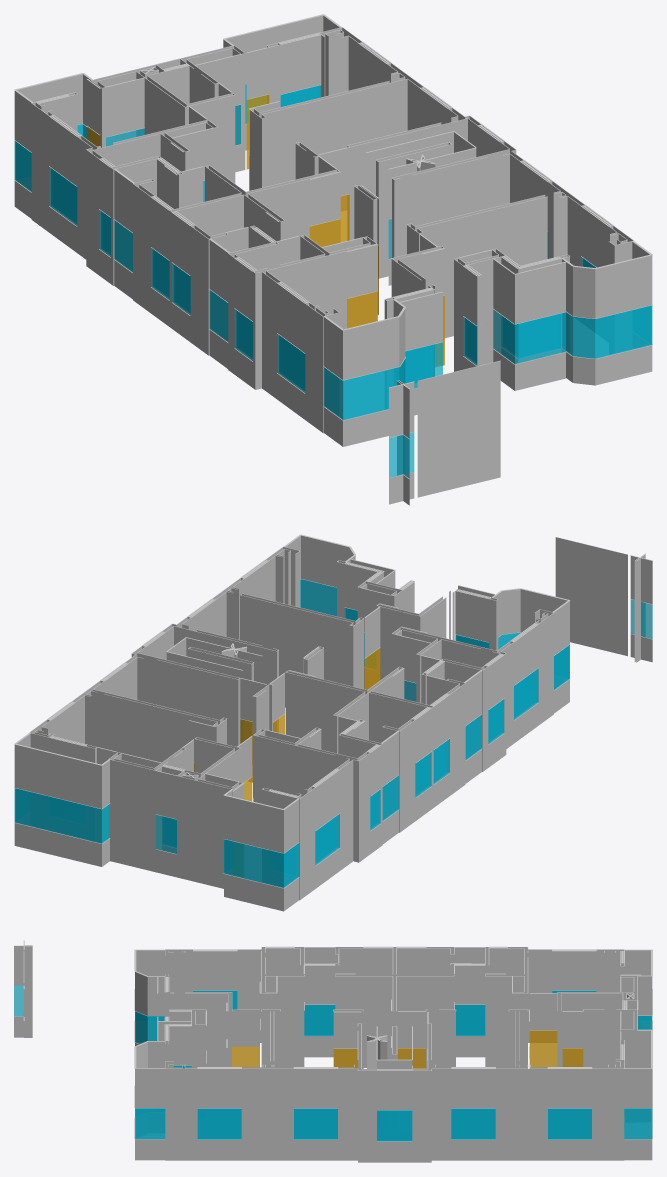
The model's file is 7ca4542e-b6ab-446c-be6a-08c3e18508d6_no_roof.glb.
The picture shows the model from 3 angles, top to bottom: view 1: azimuth 30°, elevation 25°; view 2: azimuth 150°, elevation 25°; view 3: azimuth 270°, elevation 25°; orthographic projection. The views are drawn at different scales.
Visible parts, largest first — view 1: walls, windows, doors; view 2: walls, windows, doors; view 3: walls, windows, doors.
Part boxes in pixels (x1,y1,x2,y2): walls: [14, 14, 652, 505]; windows: [14, 84, 652, 478]; doors: [87, 94, 444, 366]; walls: [14, 534, 652, 911]; windows: [14, 579, 652, 888]; doors: [194, 648, 421, 801]; walls: [14, 940, 652, 1162]; windows: [14, 985, 652, 1141]; doors: [232, 1030, 583, 1068].
Bounding box in the file's own units: 10.67 × 3.5 × 22.05.
